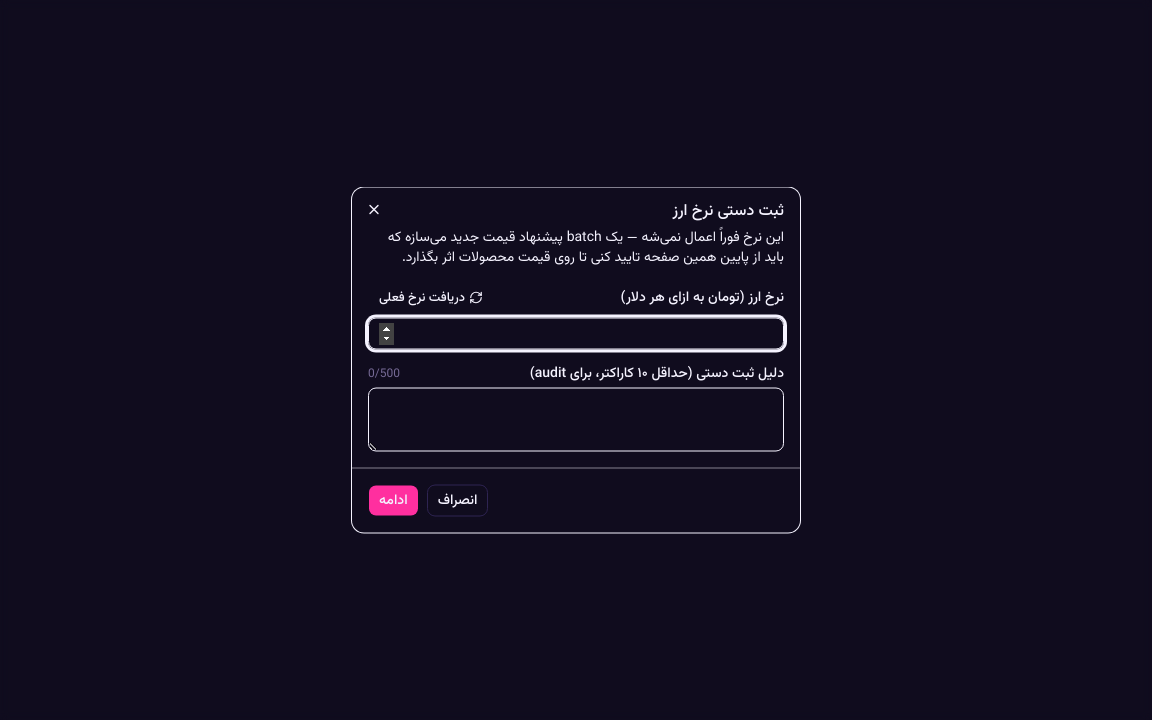
Test: ManualOverrideDialog › form step (step=form) › shows rate validation error when rate is empty
Step 1. Click the button "ادامه" → (393, 500), box [368,484,419,516]
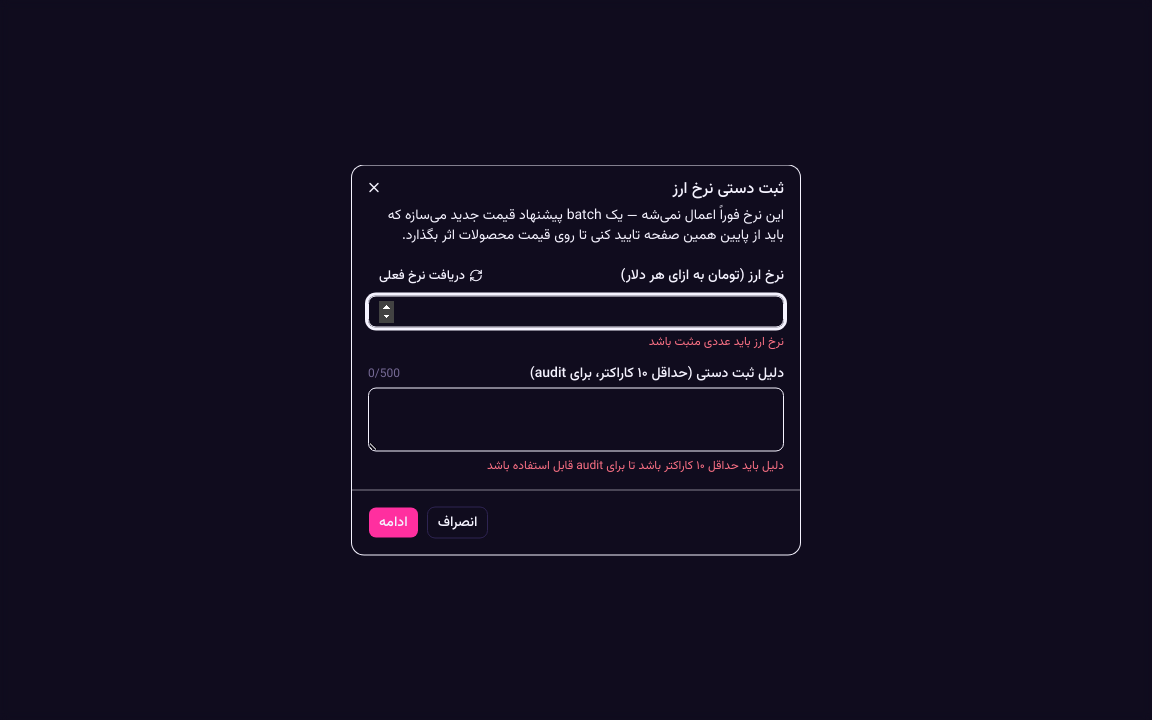
Check: the text "نرخ ارز باید عددی مثبت باشد" is shown, box [649,332,784,350]
